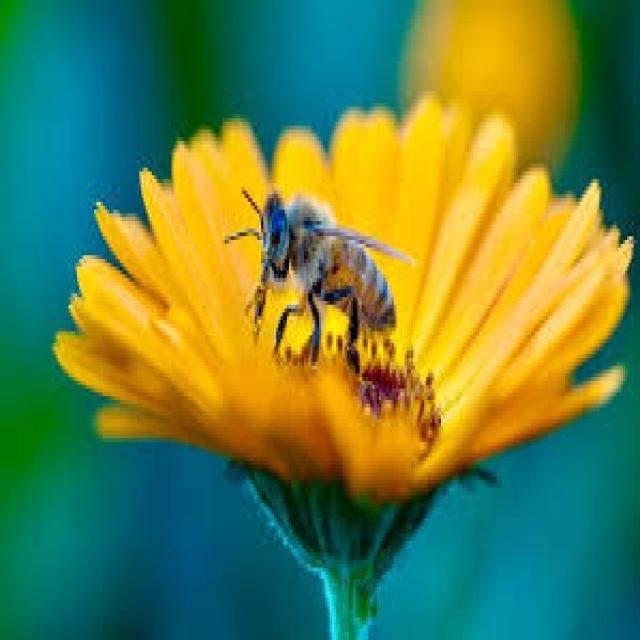Bees: (223, 184, 413, 382)
